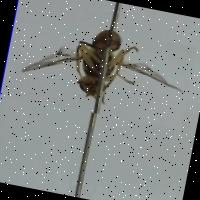Oriental-fruit-fly: (9, 12, 197, 128)
